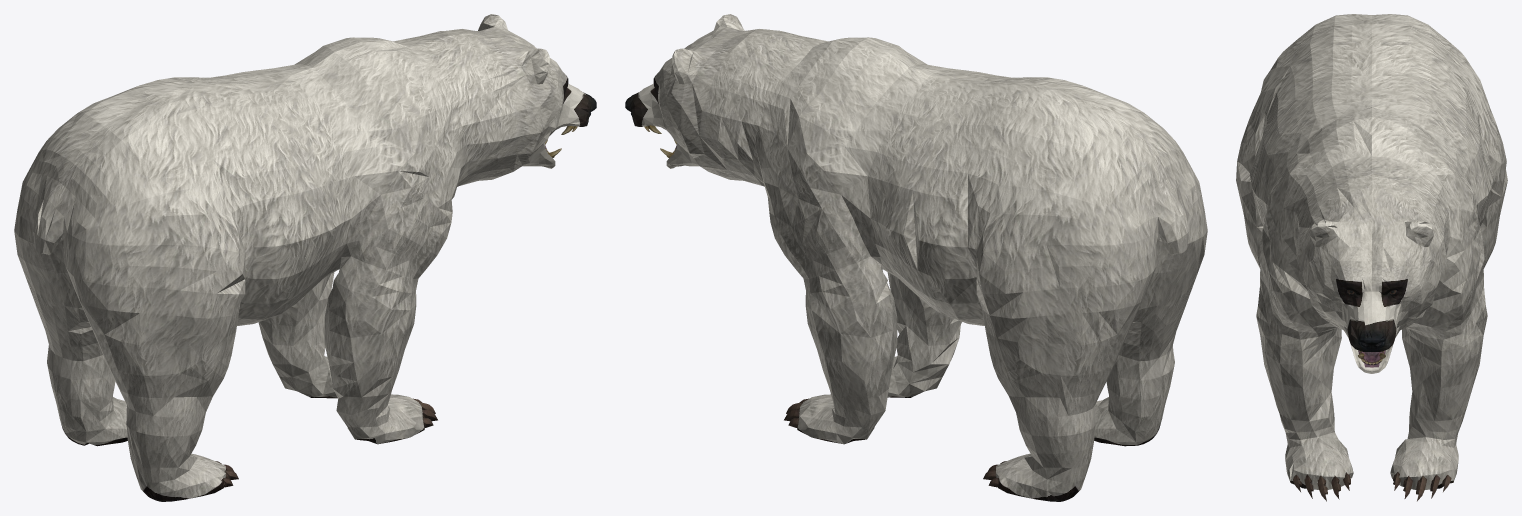
Rendered from bear.glb.
The picture shows the model from 3 angles, left to right: view 1: azimuth 30°, elevation 25°; view 2: azimuth 150°, elevation 25°; view 3: azimuth 270°, elevation 25°; orthographic projection. The views are drawn at different scales.
Bounding box in the file's own units: 2.5 × 1.6 × 1.08.
1 material, 1 textured.
